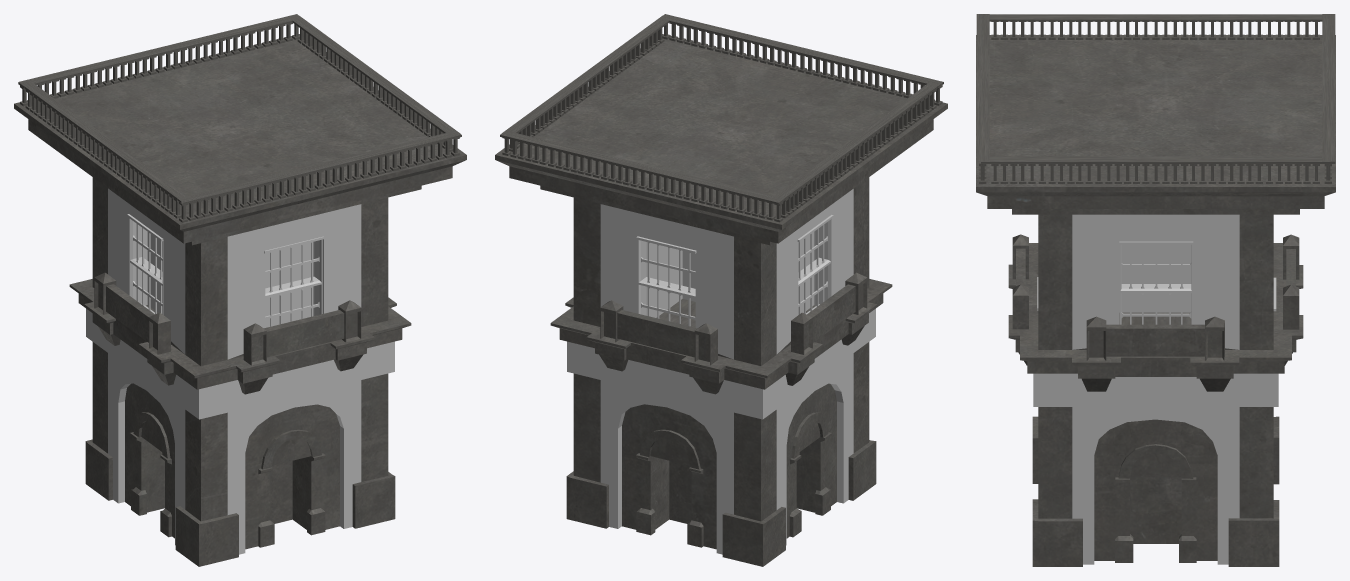
File: 26_04_2020_torre.fbx
3 renders of one model, left to right at view 1: azimuth 30°, elevation 25°; view 2: azimuth 150°, elevation 25°; view 3: azimuth 270°, elevation 25°, orthographic. The views are drawn at different scales.
Parts seen in each view (by area): view 1: Cube.007, Cube.012, Cube.009, Cube.011; view 2: Cube.007, Cube.012, Cube.008, Cube.011; view 3: Cube.007, Cube.012, Cube.010.
Part boxes in pixels (x1,y1,x2,y2): Cube.007: [14, 34, 466, 566]; Cube.012: [18, 14, 461, 222]; Cube.009: [264, 236, 323, 326]; Cube.011: [127, 214, 163, 314]; Cube.007: [495, 34, 947, 566]; Cube.012: [500, 14, 943, 222]; Cube.008: [636, 236, 696, 327]; Cube.011: [797, 215, 833, 314]; Cube.007: [976, 35, 1335, 566]; Cube.012: [976, 14, 1335, 183]; Cube.010: [1119, 241, 1193, 324].
Bounding box in the file's own units: 2679 × 3506 × 2680.
